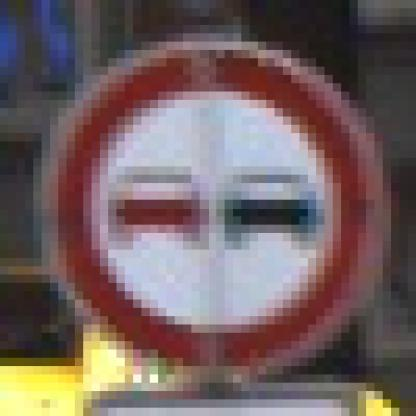No Overtaking: (43, 43, 376, 376)
